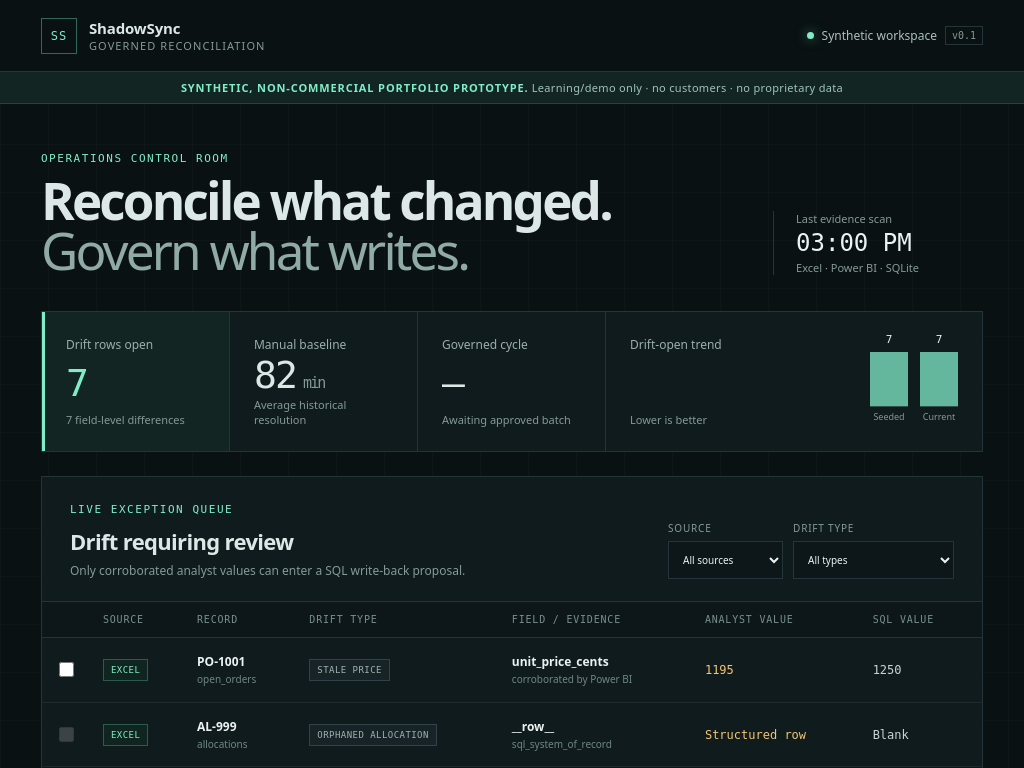
Test: ShadowSync workspace › shows the immutable dry-run before approval controls
Click the checkbox named "Select Excel PO-1001 unit_price_cents" at {"x": 66, "y": 670}, box x1=59 y1=662 x2=74 y2=677
(page scrolled)
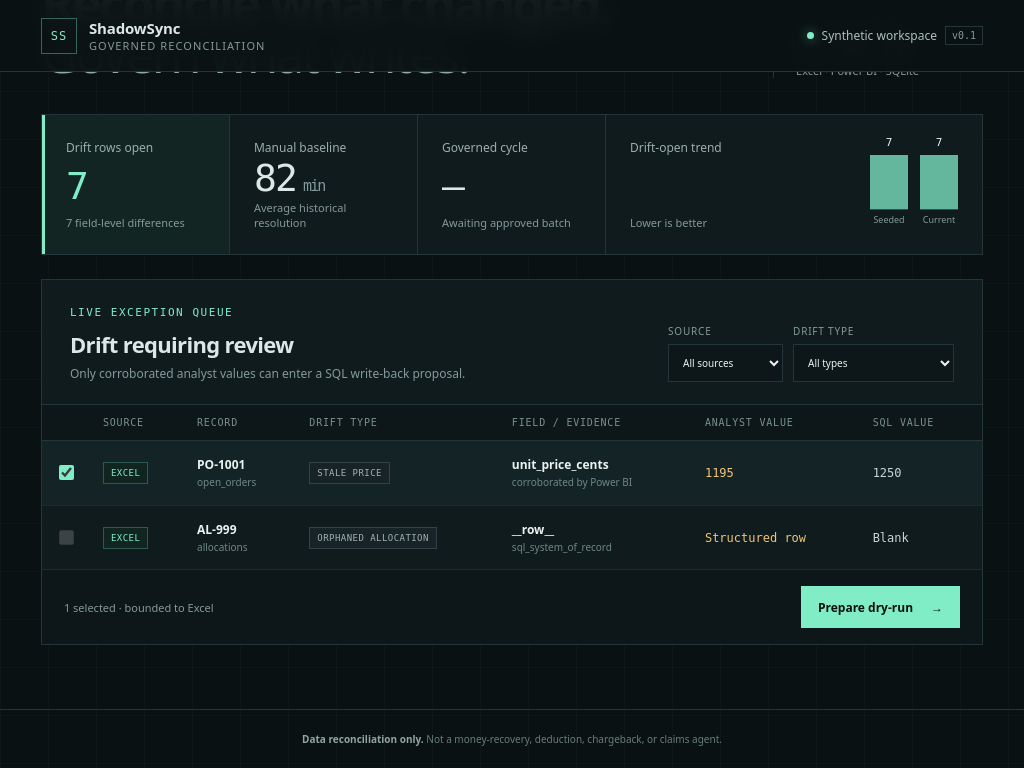
Click the button "Prepare dry-run →" at {"x": 881, "y": 607}, box x1=801 y1=586 x2=960 y2=628
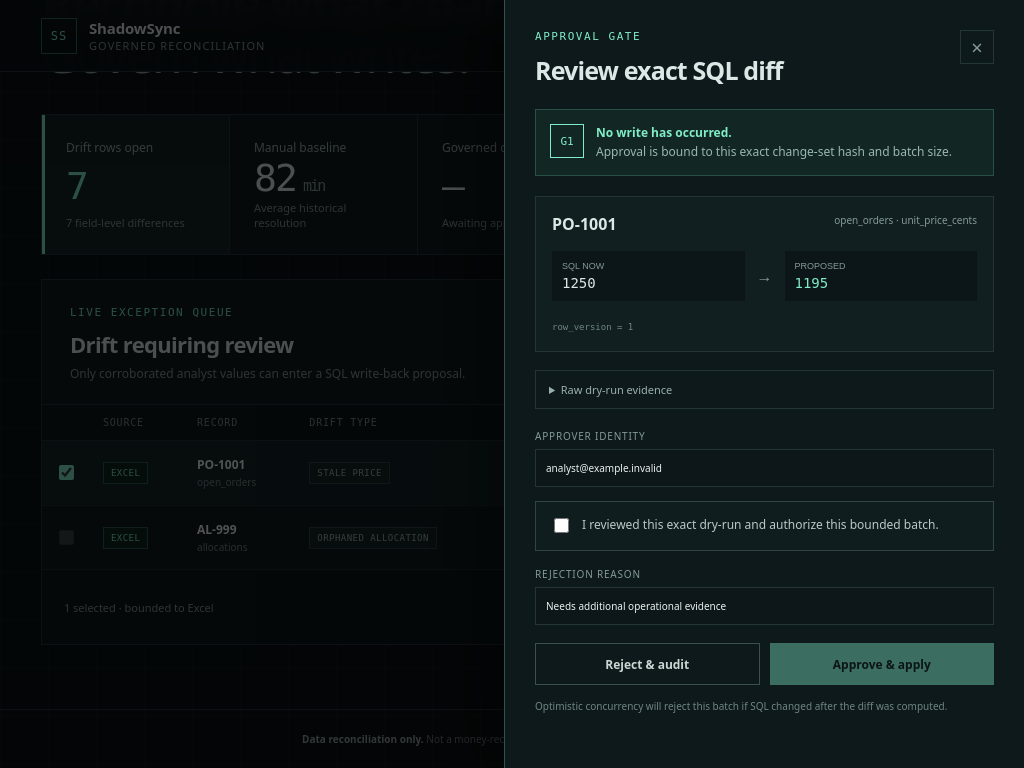
Check: the heading "Review exact SQL diff" is shown, box x1=535 y1=53 x2=783 y2=87
Check: the text "No write has occurred." is shown, box x1=596 y1=124 x2=732 y2=141
Check: the button "Approve & apply" is disabled, box x1=770 y1=643 x2=994 y2=685
Click the text "I reviewed this exact dry-run" at {"x": 760, "y": 525}, box x1=582 y1=516 x2=939 y2=534
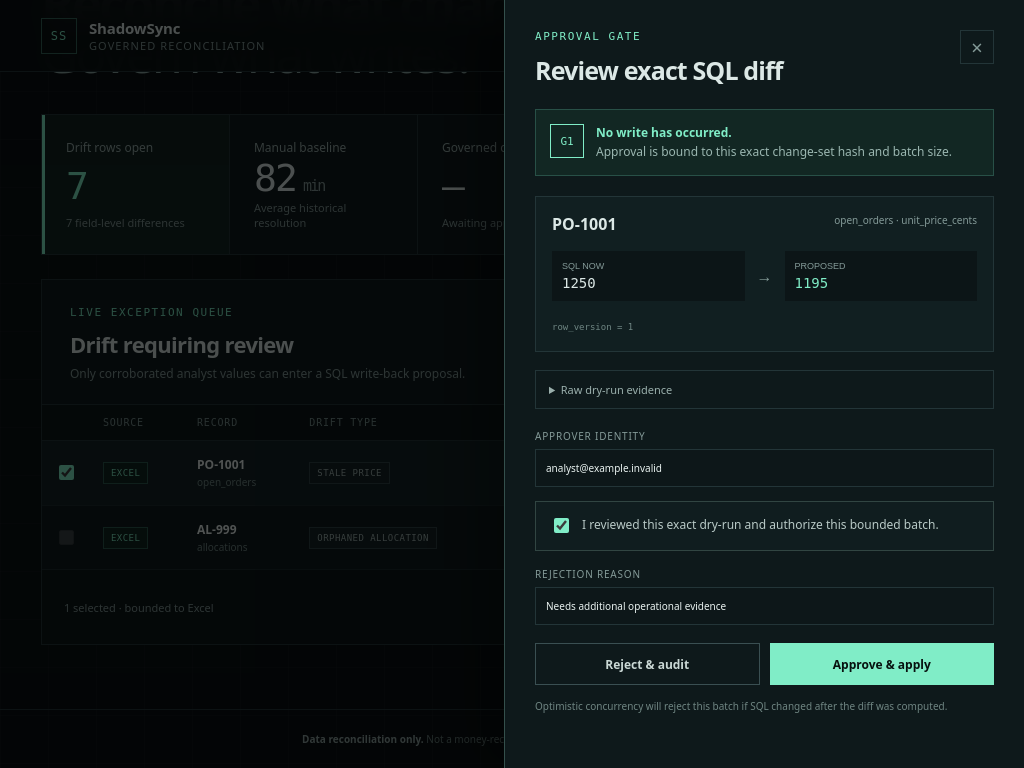
Check: the button "Approve & apply" is enabled, box x1=770 y1=643 x2=994 y2=685
